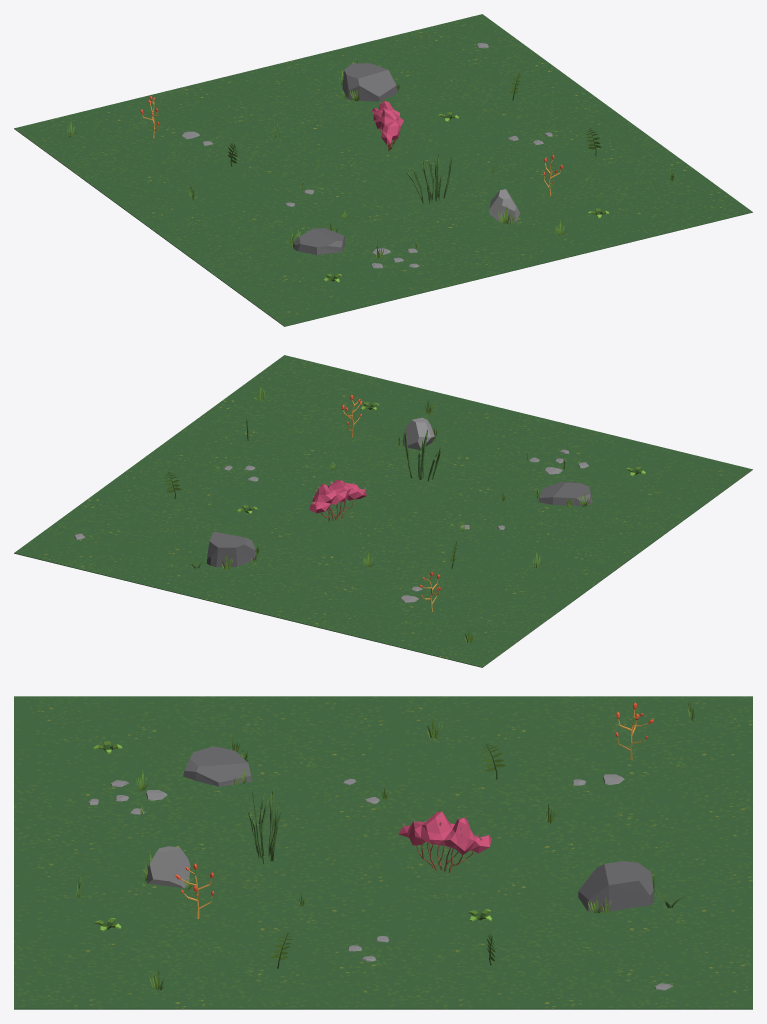
3 views of the same model, one above another, from view 1: azimuth 30°, elevation 25°; view 2: azimuth 150°, elevation 25°; view 3: azimuth 270°, elevation 25° (orthographic). The views are drawn at different scales.
Parts seen in each view (by area): view 1: EP_01; view 2: EP_01; view 3: EP_01.
Part boxes in pixels (x1,y1,x2,y2): EP_01: (14,14,752,326); EP_01: (14,355,752,667); EP_01: (14,696,752,1009).
Size of what is drawn, in the model's own units: 16 by 1.9 by 16.
Materials: 1 (1 with a texture image).
